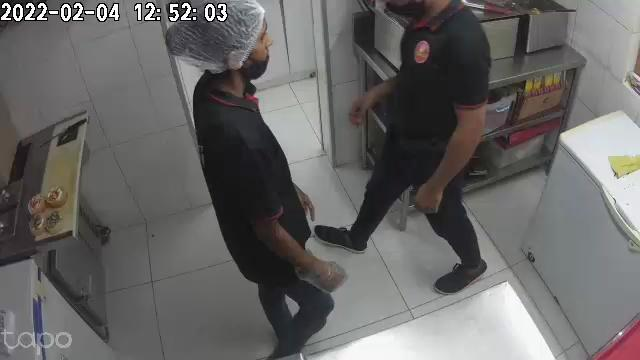no_gloves: (414, 165, 447, 212)
